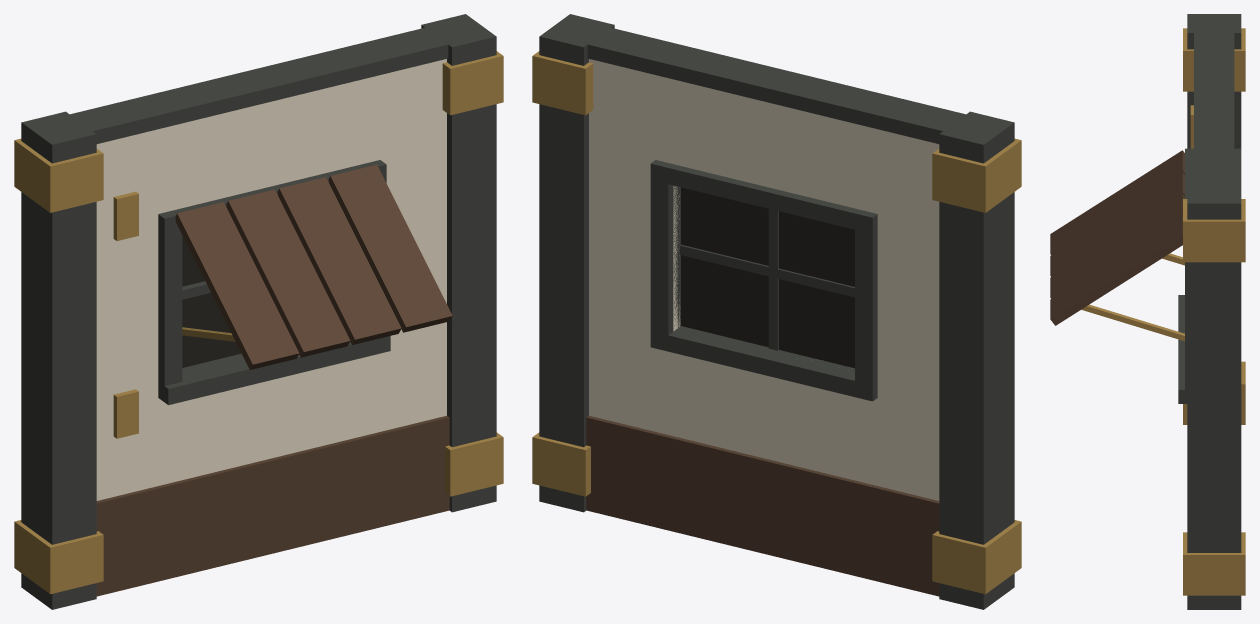
File: wall_window.glb
3 renders of one model, left to right at view 1: azimuth 30°, elevation 25°; view 2: azimuth 150°, elevation 25°; view 3: azimuth 270°, elevation 25°, orthographic. The views are drawn at different scales.
Parts seen in each view (by area): view 1: wall_window; view 2: wall_window; view 3: wall_window.
Boxes of the visible parts, bbox=[...] form: wall_window: bbox=[14, 14, 503, 609]; wall_window: bbox=[532, 14, 1021, 609]; wall_window: bbox=[1050, 14, 1245, 609].
Size of the model in its own units: 2.04 by 2 by 0.8713.
